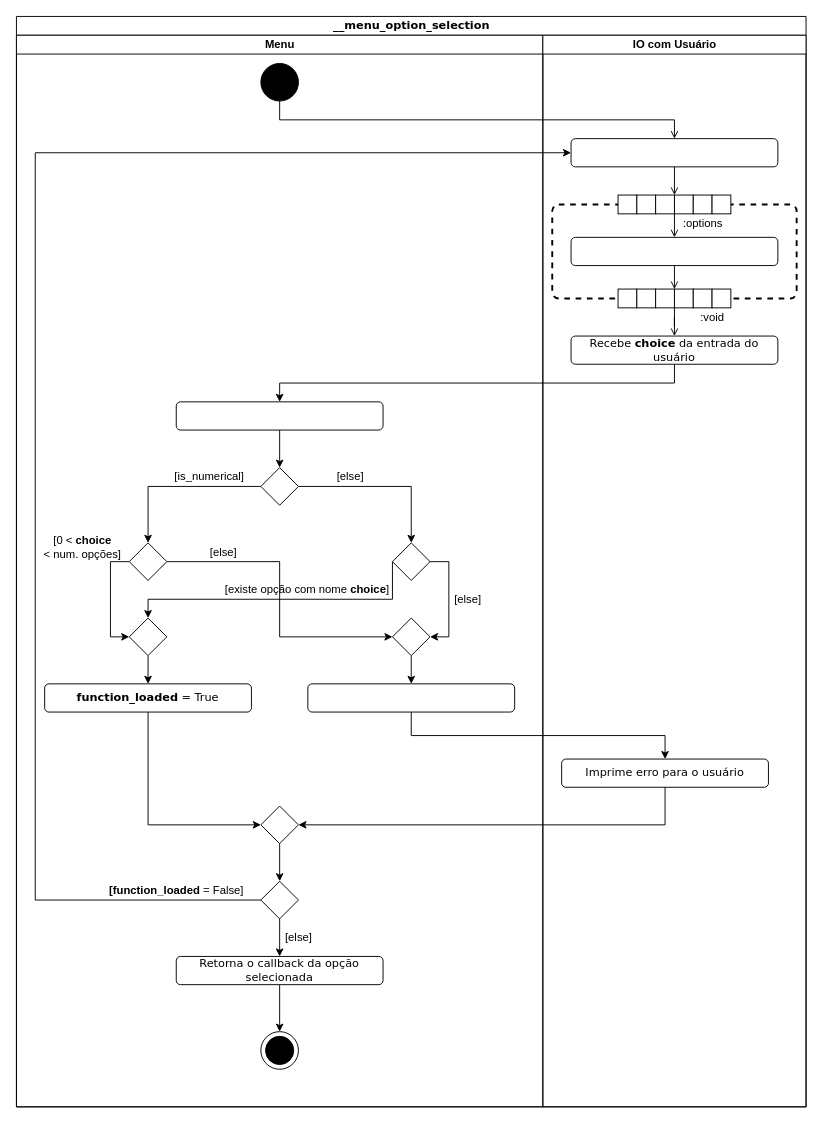
The diagram is 823 pixels wide and 1123 high, and some of its shapes have lost their labels. The shapes that lost their labels are listed below. From the top down, each one's box as (x1, y1, x2, y2) in pixels, then its label:
(570, 138, 778, 167): Imprime o label do Menu
(570, 236, 778, 266): Imprime a opção e a que número está associada
(175, 401, 383, 430): Determina se choice é uma entrada textual ou numérica
(307, 683, 515, 712): function_loaded = False
